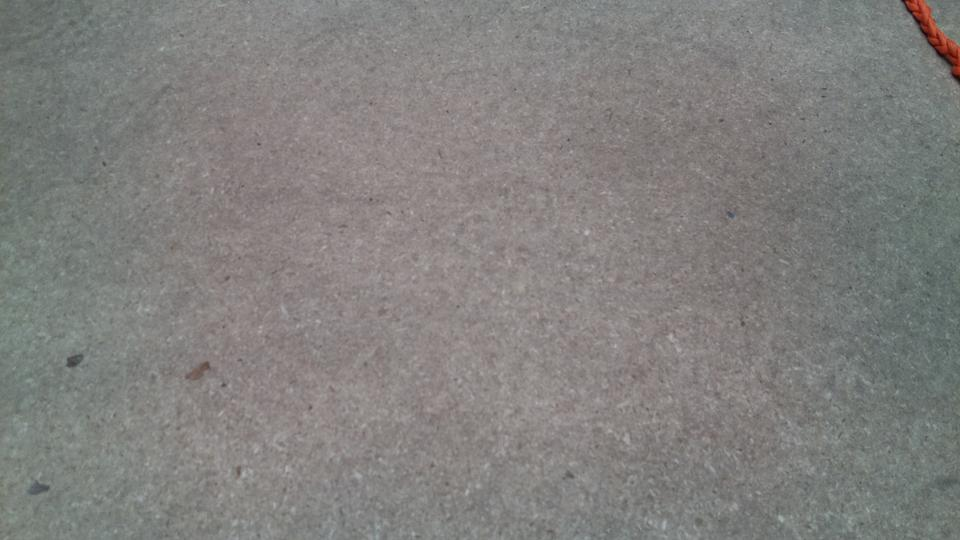rope: (903, 1, 959, 71)
